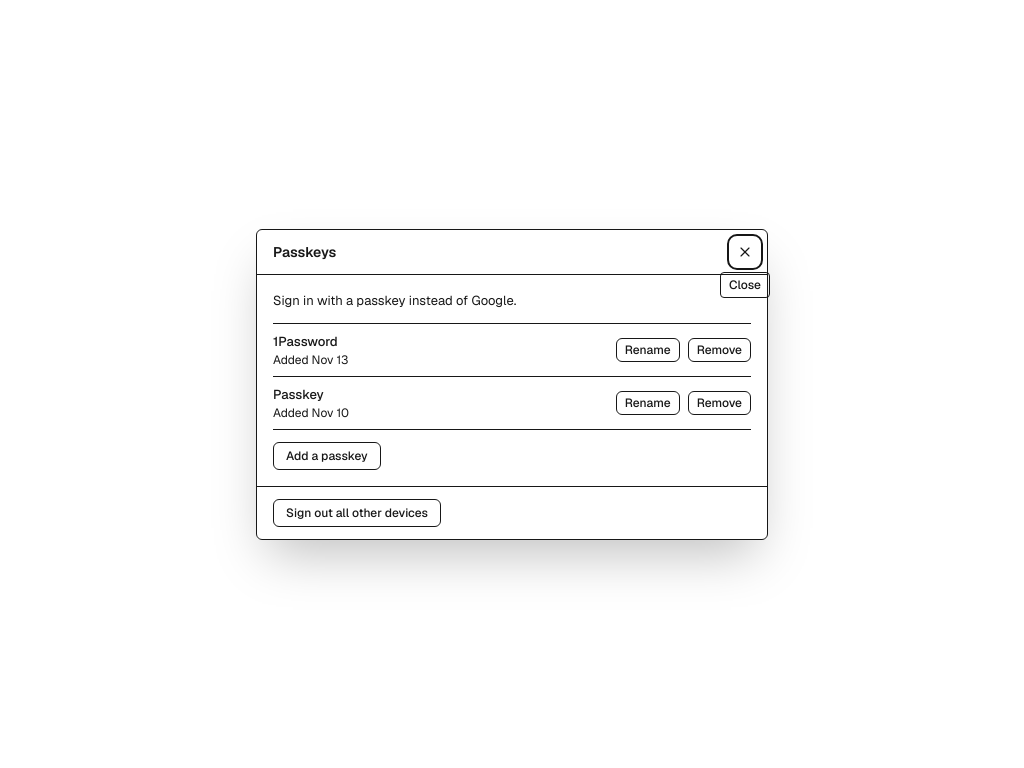
Scenario: adding a passkey › added, but the list didn't load again: the old list stays, with a message
This screenshot has width=1024, height=768.
Click the button "Add a passkey": (327, 456) [273, 442, 381, 470]
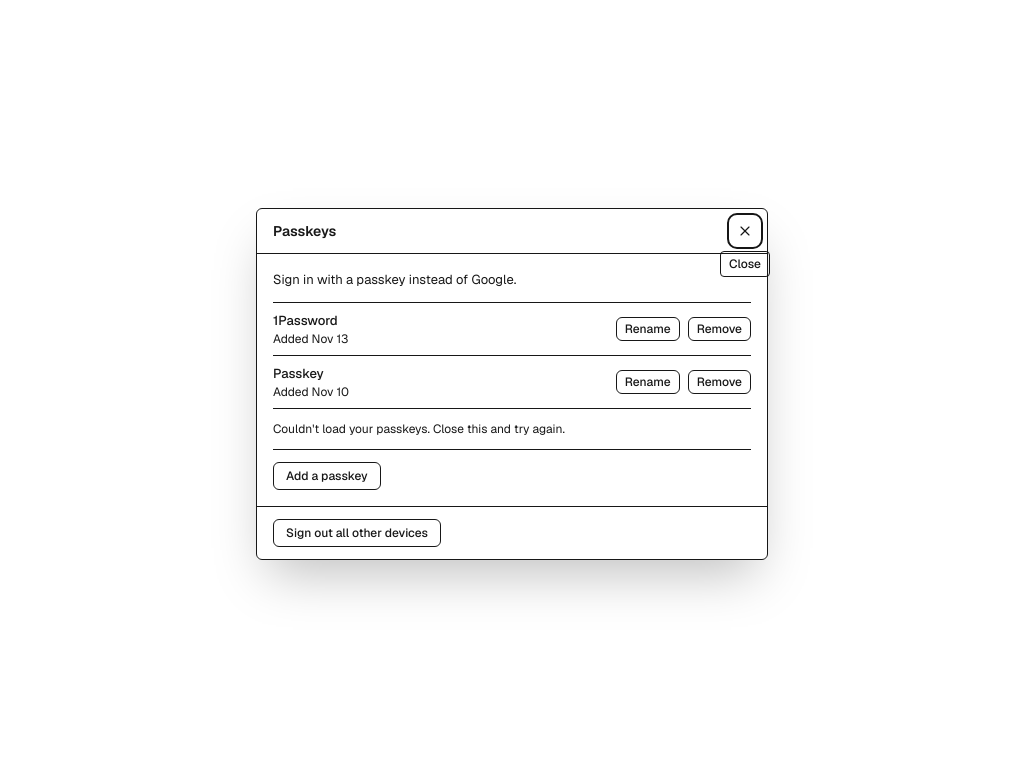
Expected: the number of list items is 2, [273, 303, 751, 356]; [273, 356, 751, 408]
Expected: the message "Couldn't load your passkeys. Close this and try again." is shown, [273, 408, 751, 449]
Expected: the message reads "Couldn't load your passkeys. Close this and try again.", [273, 421, 565, 437]
